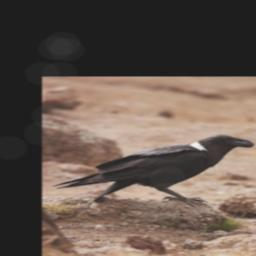Crow: (53, 132, 256, 210)
